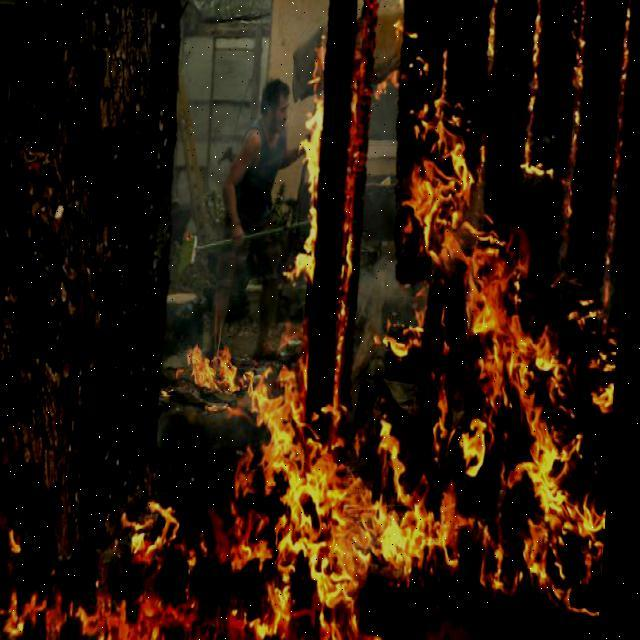Fire: (156, 8, 638, 635)
